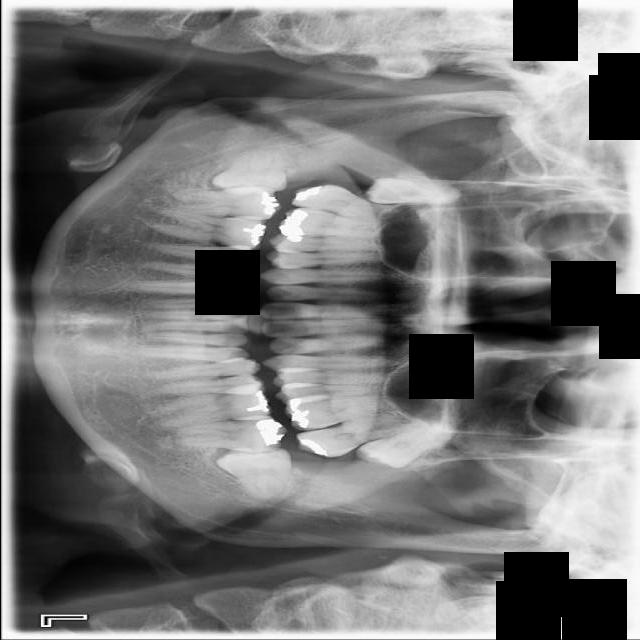3M ESPE Implant: (362, 176, 463, 204)
52: (216, 378, 274, 428), (282, 389, 344, 435), (294, 422, 363, 463), (227, 414, 287, 454), (216, 210, 269, 255), (289, 181, 355, 215), (230, 185, 284, 221), (277, 207, 334, 238), (269, 233, 319, 253)
73: (62, 592, 72, 598)
BioHorizons Implant: (293, 400, 425, 466)
BioLife Implant: (351, 413, 460, 483)
Biomet 3i Implant: (214, 442, 294, 509)
Blue Sky Bio Implant: (172, 415, 287, 452)
Caries: (290, 176, 400, 230)
Implant: (169, 184, 283, 223)
Keystone Dental Implant: (209, 146, 287, 197)
